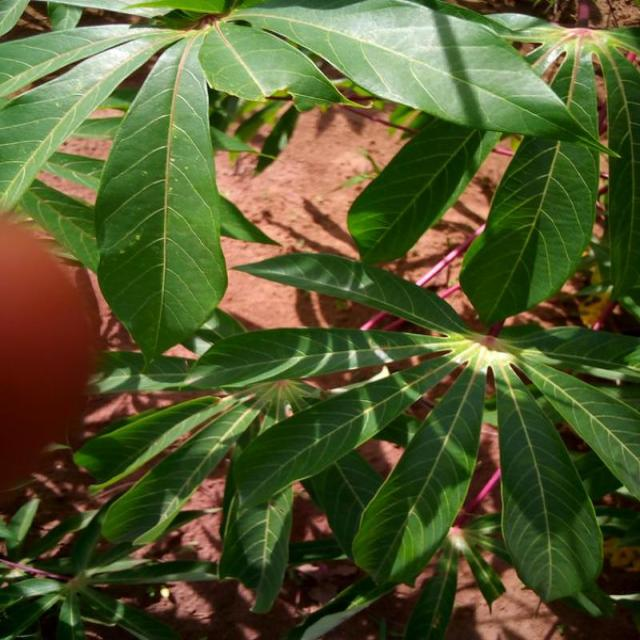cassava leaf: (1, 1, 638, 637), (222, 0, 591, 146), (92, 27, 228, 370), (458, 38, 602, 328), (351, 362, 486, 588), (493, 362, 604, 604)
